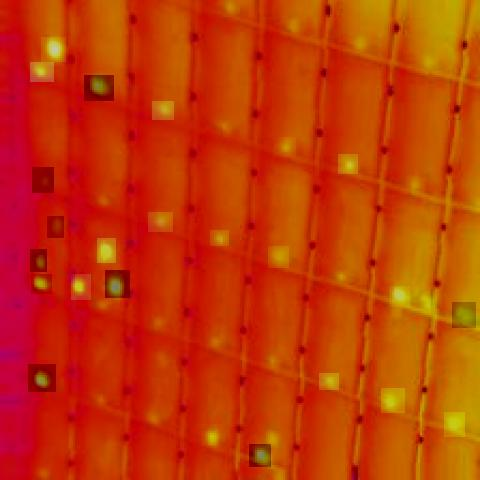fault: (28, 364, 56, 392), (84, 75, 114, 101), (105, 270, 130, 298), (201, 424, 225, 452), (41, 37, 66, 62), (452, 302, 476, 328), (381, 388, 405, 413), (32, 167, 54, 193), (444, 412, 465, 437), (71, 274, 91, 300), (249, 444, 271, 467), (148, 212, 173, 232), (30, 62, 54, 82), (97, 238, 116, 263), (268, 246, 289, 268), (389, 286, 410, 307), (274, 137, 296, 157), (31, 274, 52, 294), (152, 101, 174, 120), (338, 154, 358, 174), (30, 249, 47, 272), (47, 216, 64, 238), (319, 373, 339, 390), (210, 230, 229, 246)
